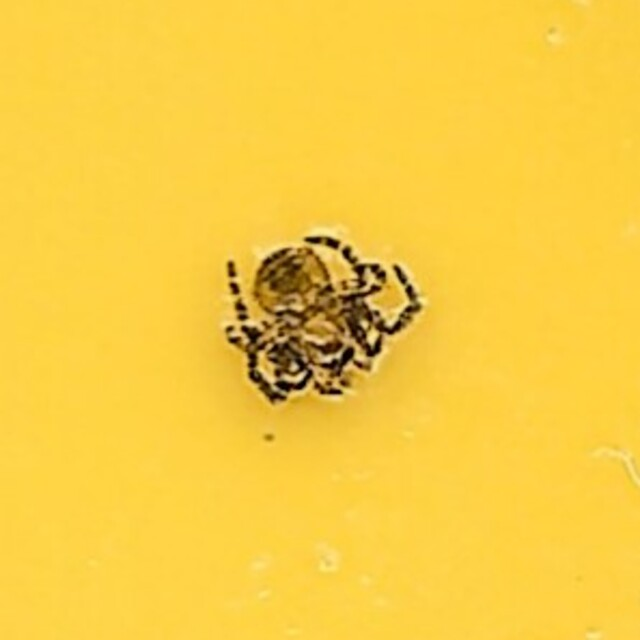Araneae: (215, 221, 425, 419)
